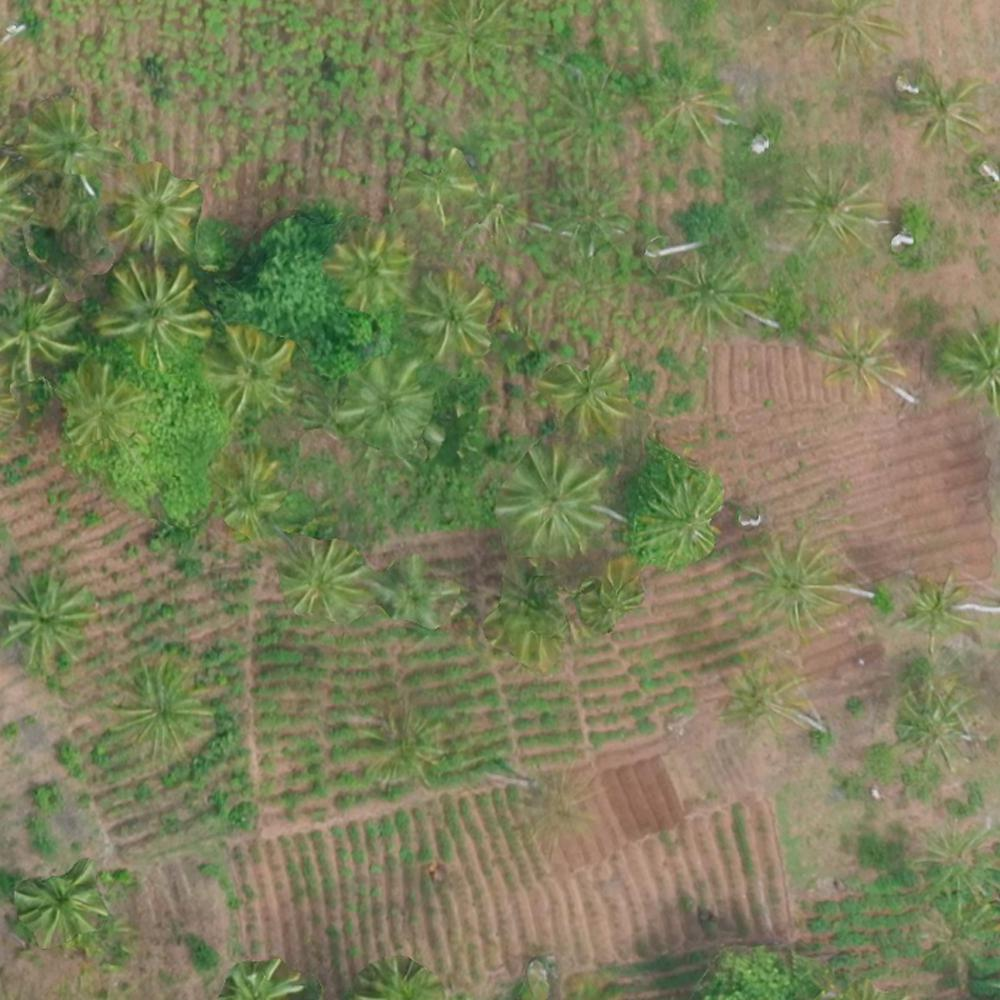Palm: (501, 447, 605, 554), (100, 262, 201, 364), (734, 535, 837, 629), (653, 246, 758, 334), (337, 356, 438, 446), (203, 325, 294, 423), (115, 657, 207, 748), (4, 572, 91, 668), (538, 348, 629, 438), (786, 166, 880, 252), (812, 318, 910, 398), (2, 280, 81, 379), (59, 365, 145, 455), (635, 467, 721, 555), (21, 100, 110, 185), (279, 538, 363, 625), (896, 67, 986, 148), (14, 867, 105, 947), (111, 164, 192, 252), (896, 568, 982, 646), (368, 557, 457, 632), (411, 275, 491, 358), (330, 224, 408, 304), (212, 450, 281, 534)
